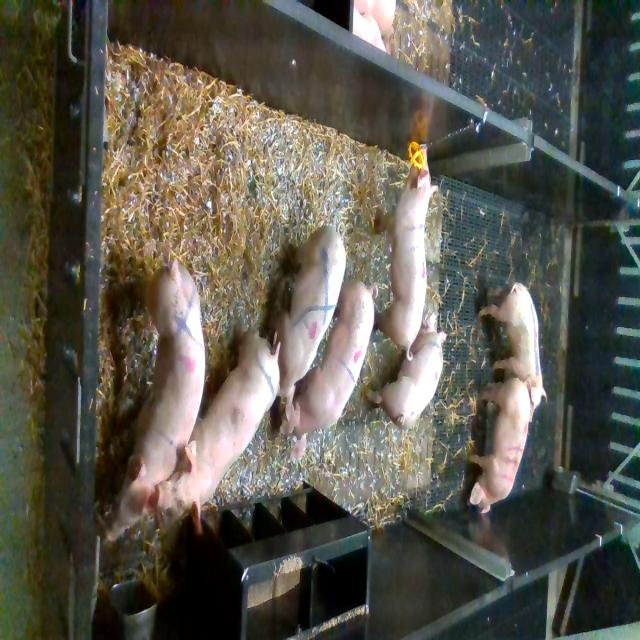pig: (104, 257, 205, 540), (154, 322, 281, 532), (279, 281, 379, 460), (269, 222, 346, 408), (375, 149, 439, 361), (365, 312, 448, 430), (479, 282, 547, 422), (467, 378, 531, 514)
